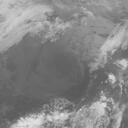cyclone: (38, 36, 87, 92)
